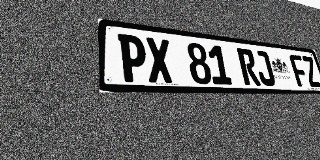1: (206, 44, 232, 85)
8: (186, 42, 213, 84)
F: (288, 54, 310, 87)
J: (253, 50, 276, 86)
P: (118, 34, 148, 82)
R: (236, 48, 261, 86)
X: (145, 37, 174, 83)
Z: (301, 56, 320, 87)
